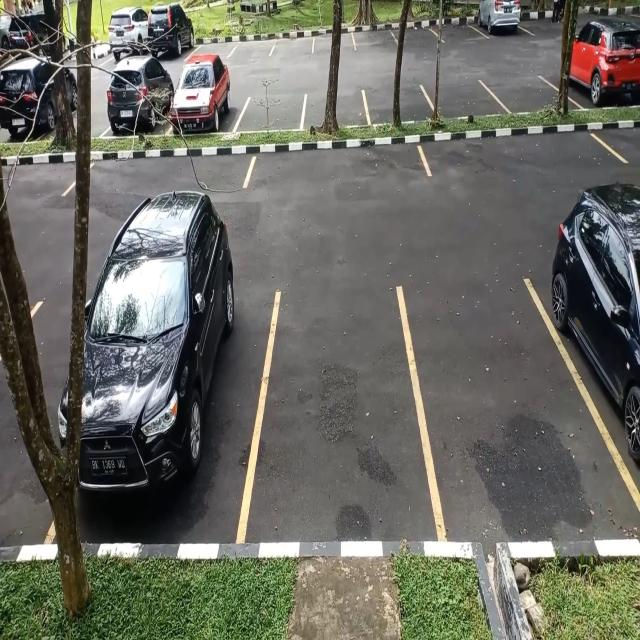empty: (253, 287, 423, 541), (419, 281, 564, 540), (424, 128, 608, 182), (247, 139, 424, 188), (365, 85, 434, 124), (304, 90, 369, 130), (496, 73, 559, 114), (240, 91, 306, 130), (436, 78, 496, 116), (270, 18, 314, 59), (313, 16, 354, 55), (354, 16, 398, 52), (436, 14, 476, 45), (230, 30, 272, 59)
occupied: (82, 240, 254, 540), (552, 236, 640, 508), (568, 27, 640, 109), (169, 60, 242, 135), (476, 0, 532, 39)
